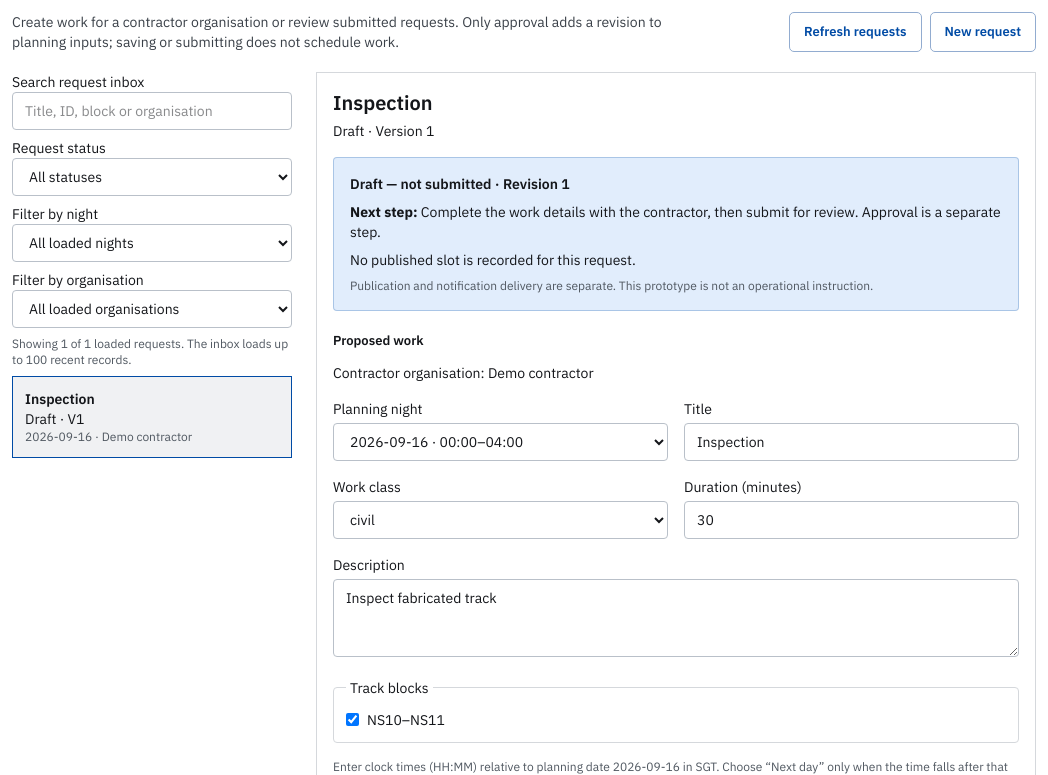
structured request intake › does not let a late refresh replace the request selected with browser history
Check: the field labelled "Title" is shown, box [684,422,1019,460]
Click the button "Refresh requests" at point(855, 32), box [789,12,922,52]
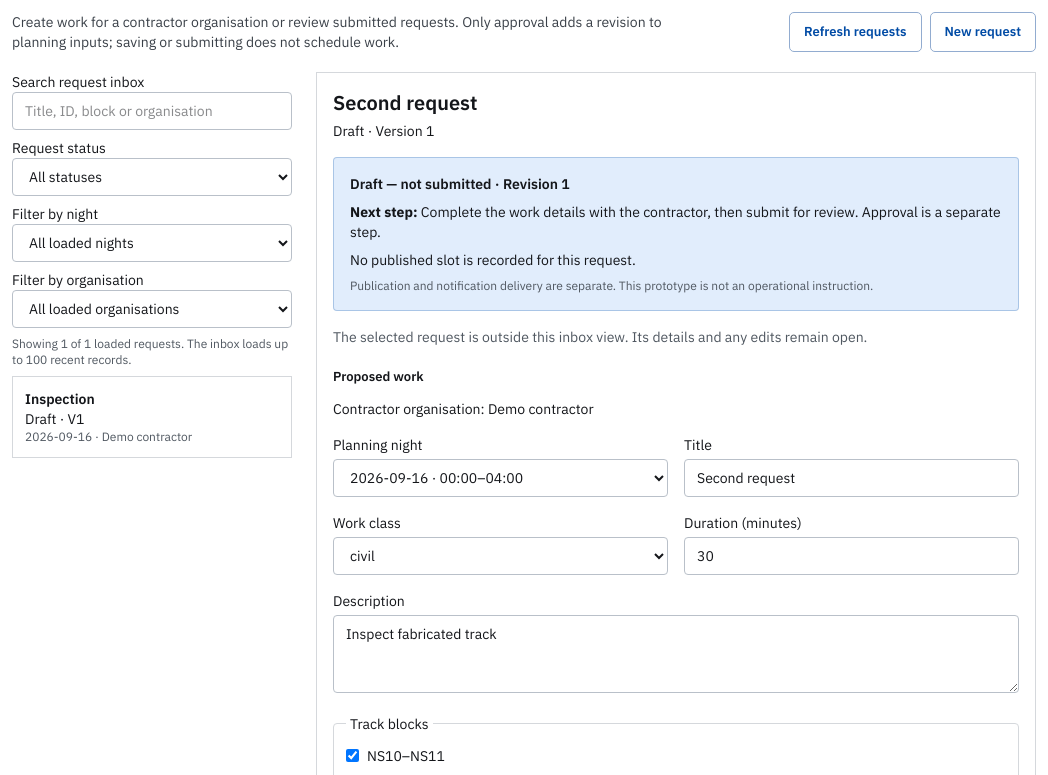
Check: the field labelled "Title" holds "Second request", box [684,458,1019,496]
